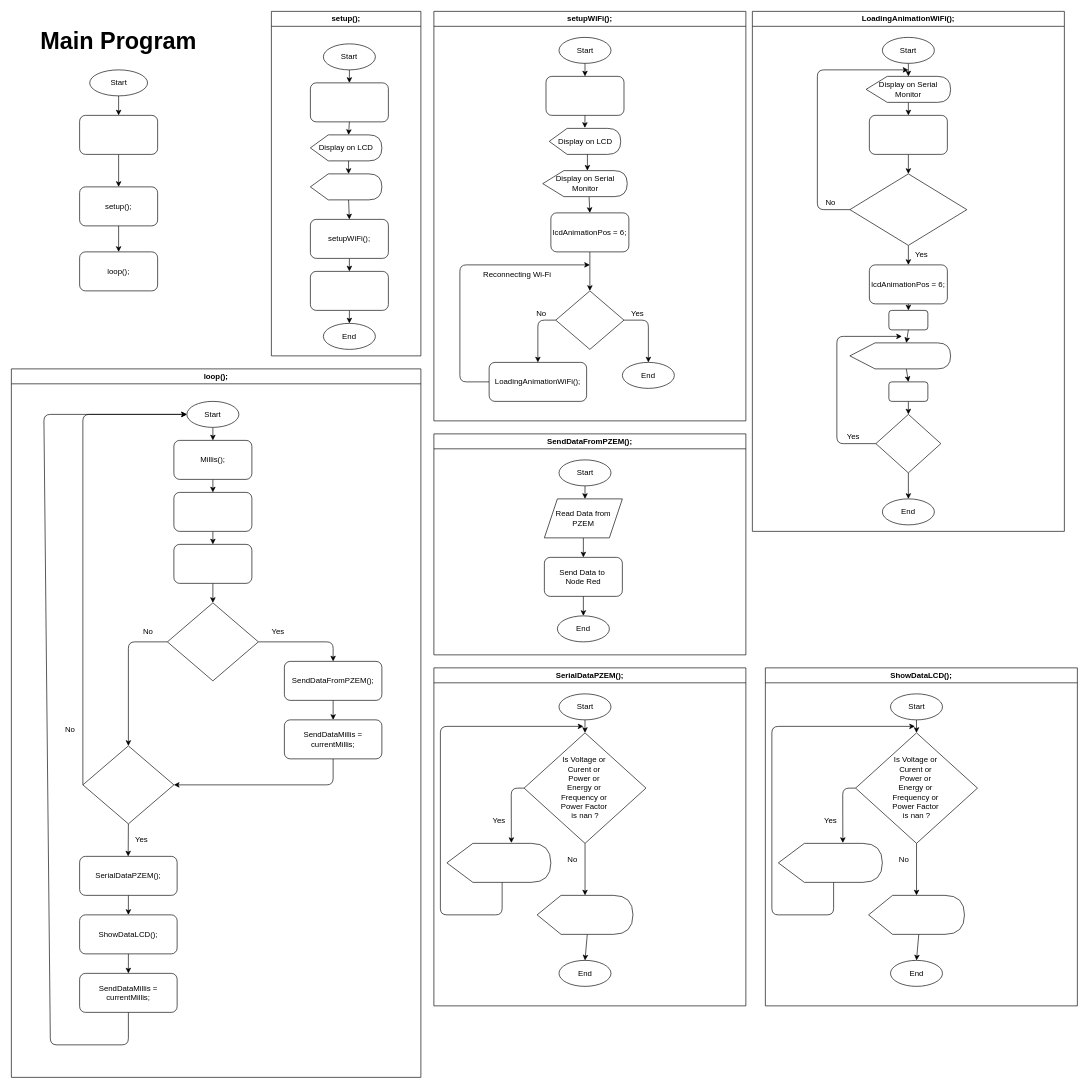
The diagram is 1089 pixels wide and 1089 high, and some of its shapes have lost their labels. Each missing label, with the centre of its shape:
Clear LCD: (x=346, y=186)
Clear LCD on position = i: (x=900, y=355)
Display Error reading ... on Serial Monitor: (x=498, y=862)
Display Voltage etc. on LCD: (x=916, y=914)
Display Voltage etc. on Serial Monitor: (x=584, y=914)
handleConnectWiFi();: (x=212, y=563)
Has it been past 10 second yet ?: (x=212, y=641)
Has it been past 3 second yet ?: (x=128, y=784)
i++;: (x=908, y=391)
Initialized Variables: (x=349, y=102)
Initialized WiFi: (x=584, y=95)
int i = 6;: (x=908, y=320)
Is i <= 15;: (x=908, y=443)
lcdAnimationPos > 15 ?: (x=908, y=209)
lcdAnimationPos++: (x=908, y=134)
Preprocessor: (x=118, y=134)
reconnectMQTT();: (x=212, y=511)
set Server Broker: (x=349, y=290)
Voltage is nan! on LCD: (x=830, y=862)
WiFi has Connected ?: (x=589, y=319)
